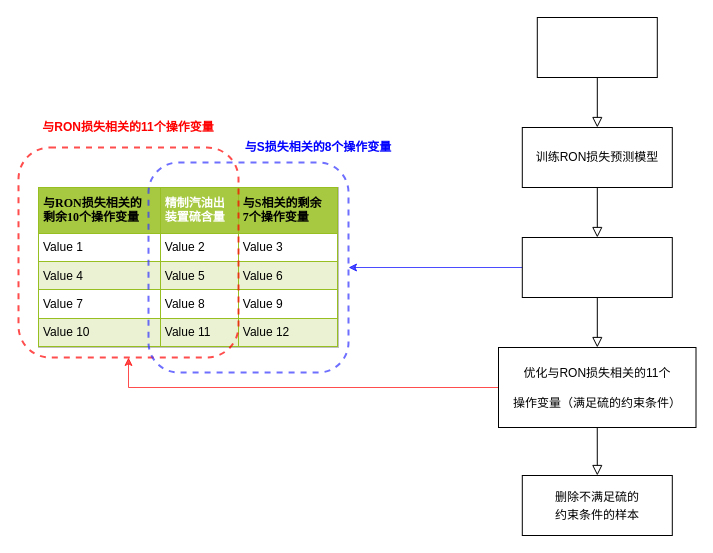
Image size: 713x553. Some labels were removed from this diagram. Each missing label, with the box of its shape:
优化与硫相关的8个 操作变量: (521, 236, 672, 298)
训练硫预测模型: (536, 16, 657, 78)
